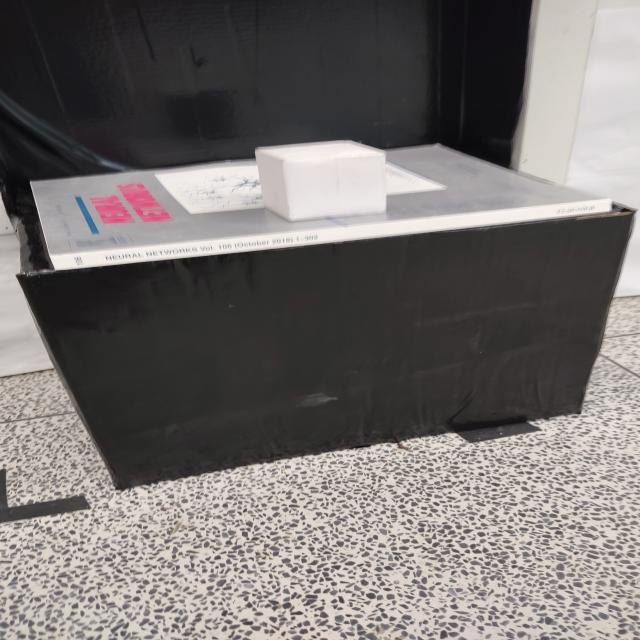bale: (254, 137, 393, 225)
